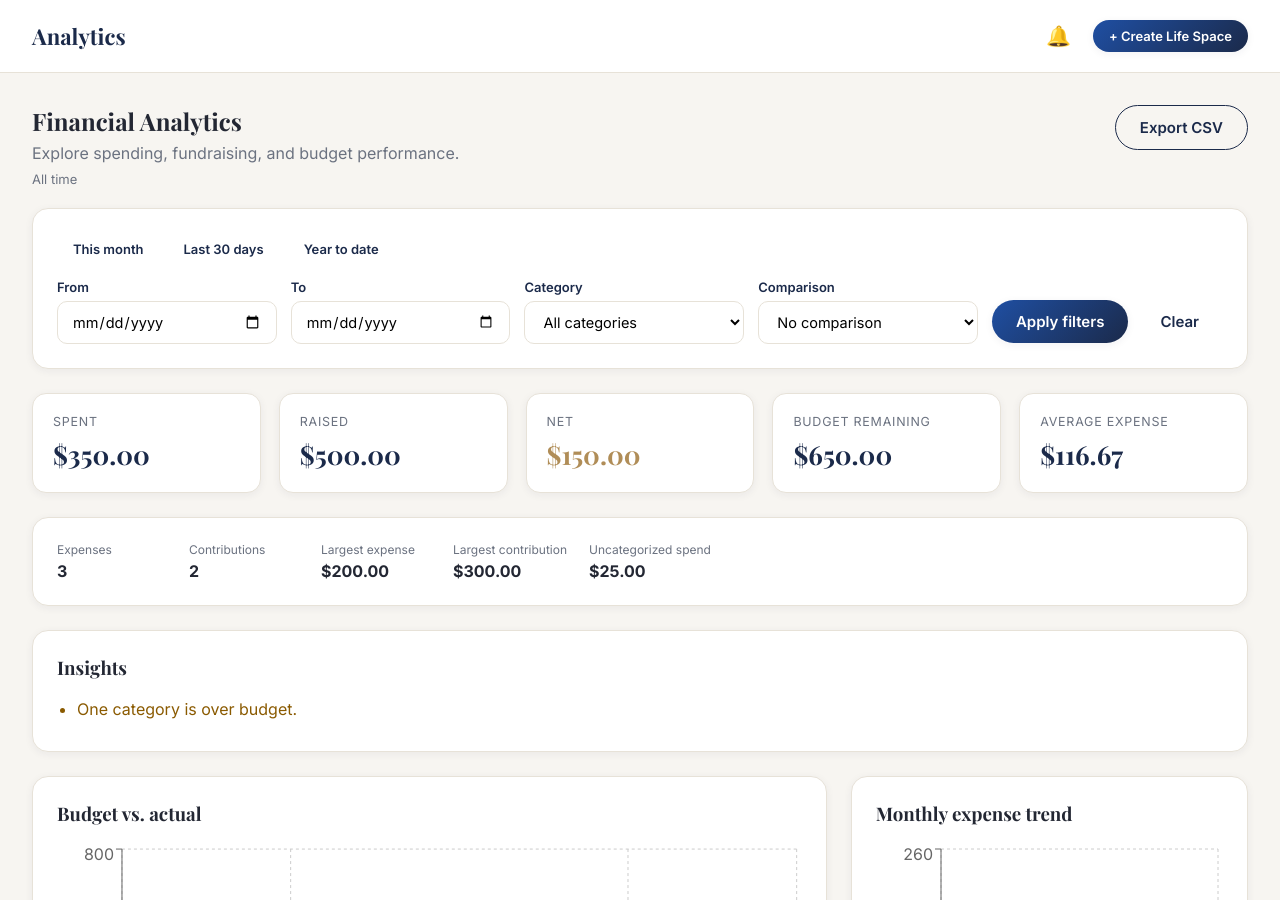
Test: Analytics v2 › fills an inclusive last-30-days range
The image size is (1280, 900).
Click the button "Last 30 days".
click(224, 249)  # box 168,233 -> 280,265
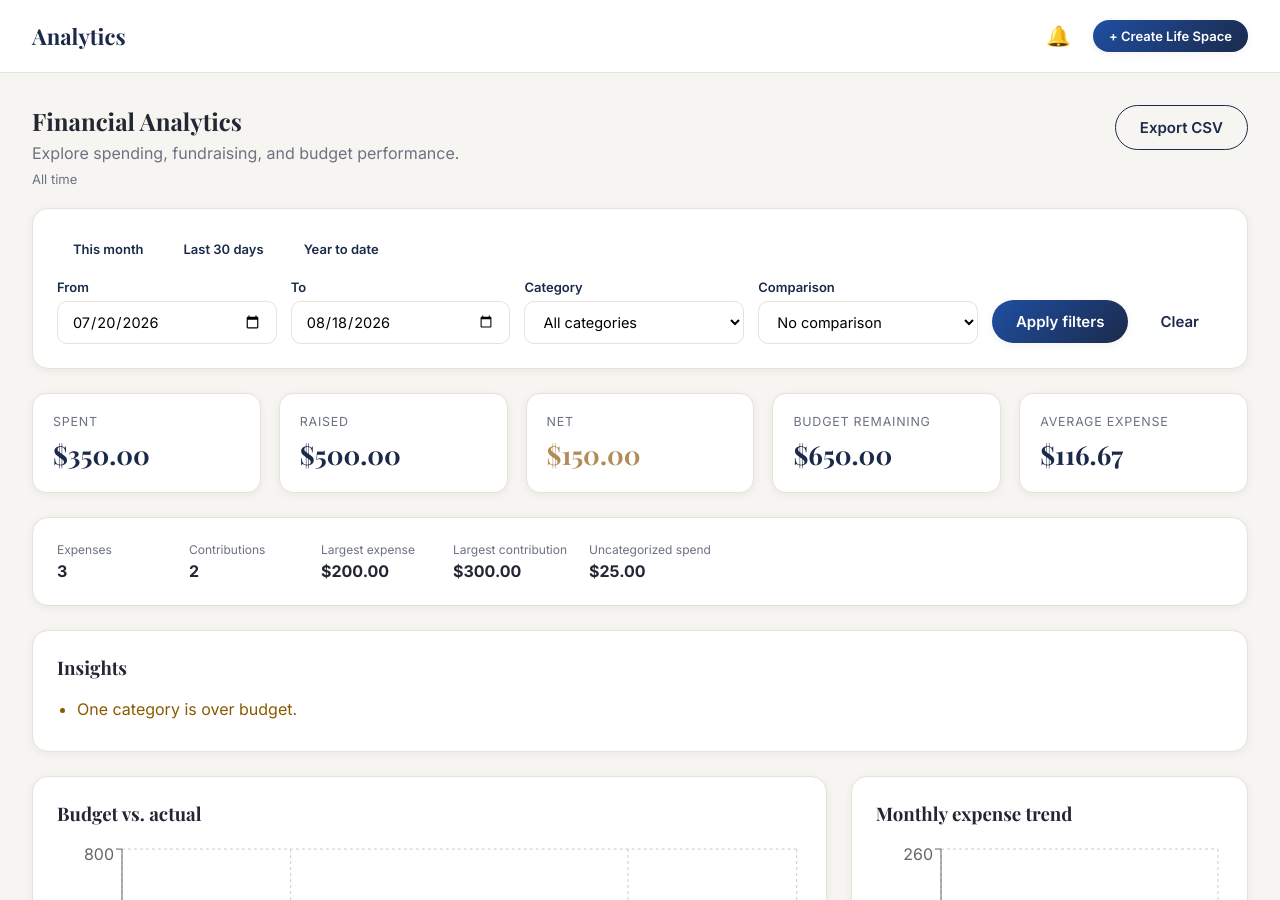
Result: the date field labelled "From" holds "2026-07-20" at 57,301 -> 277,344
Result: the date field labelled "To" holds "2026-08-18" at 291,301 -> 510,344
